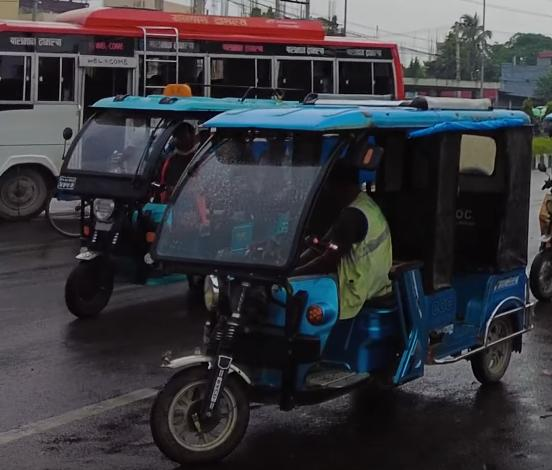e-rickshaw: (144, 88, 539, 462), (55, 79, 239, 323)
